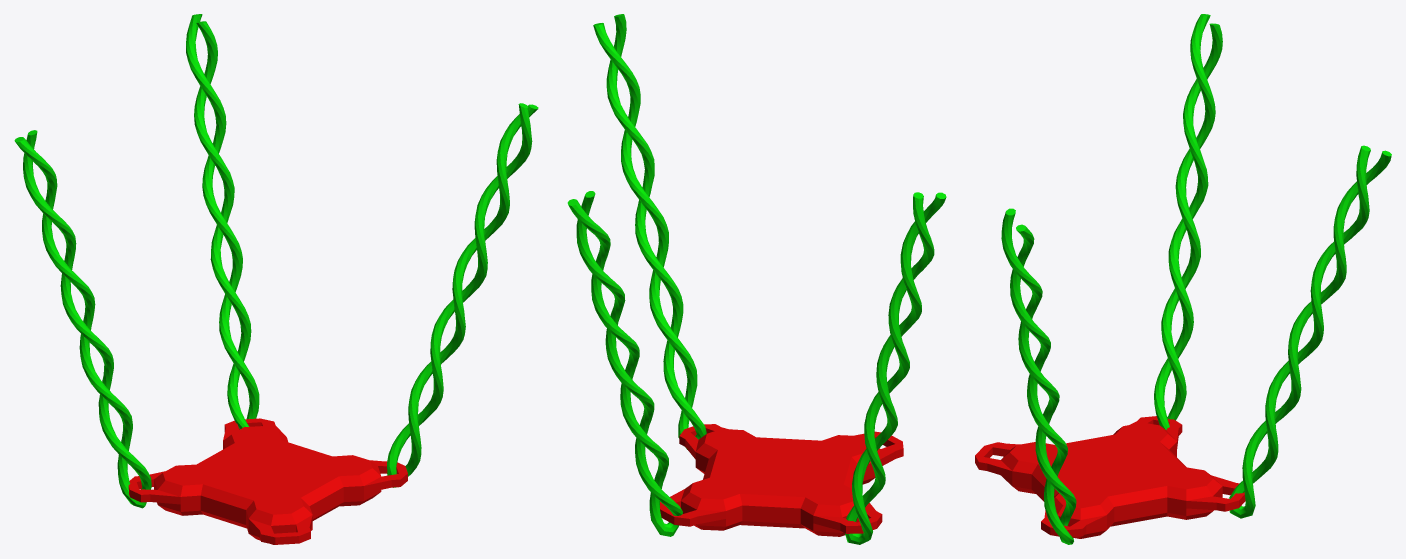
The model's file is barterplatformv1.fbx.
3 renders of one model, left to right at view 1: azimuth 30°, elevation 25°; view 2: azimuth 150°, elevation 25°; view 3: azimuth 270°, elevation 25°, orthographic. The views are drawn at different scales.
Parts seen in each view (by area): view 1: platform1, rope3, rope1, rope2; view 2: platform1, rope1, rope2, rope3; view 3: platform1, rope2, rope3, rope1.
Part boxes in pixels (box(x1,y1,x2,y2)): platform1: box(128, 418, 407, 544); rope3: box(186, 14, 259, 429); rope1: box(387, 103, 538, 487); rope2: box(14, 130, 151, 508); platform1: box(660, 424, 903, 536); rope1: box(593, 14, 706, 449); rope2: box(845, 192, 946, 544); rope3: box(567, 191, 682, 536); platform1: box(975, 416, 1245, 538); rope2: box(1154, 14, 1222, 429); rope3: box(1229, 145, 1391, 518); rope1: box(1001, 208, 1076, 544).
Bounding box in the file's own units: 140 × 119 × 115.
